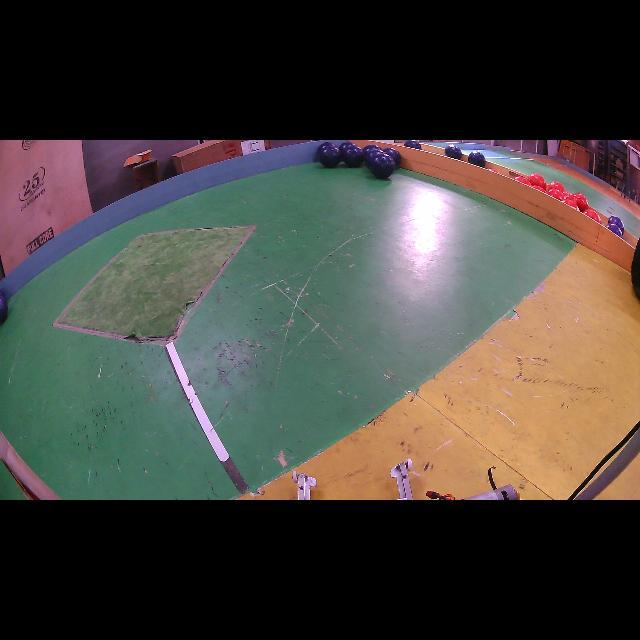B: (369, 154, 396, 179), (342, 146, 365, 168), (319, 145, 341, 168), (364, 149, 383, 169), (382, 148, 401, 167), (469, 151, 486, 168), (316, 141, 338, 154), (445, 144, 462, 160), (339, 141, 356, 153), (404, 140, 421, 150), (364, 144, 381, 153)
P: (608, 215, 625, 236), (606, 222, 624, 238)
R: (572, 192, 589, 212), (528, 174, 546, 190), (584, 209, 601, 224), (548, 189, 565, 201), (548, 181, 565, 191), (514, 176, 531, 186), (565, 199, 579, 210), (565, 192, 576, 202), (532, 185, 545, 192)
